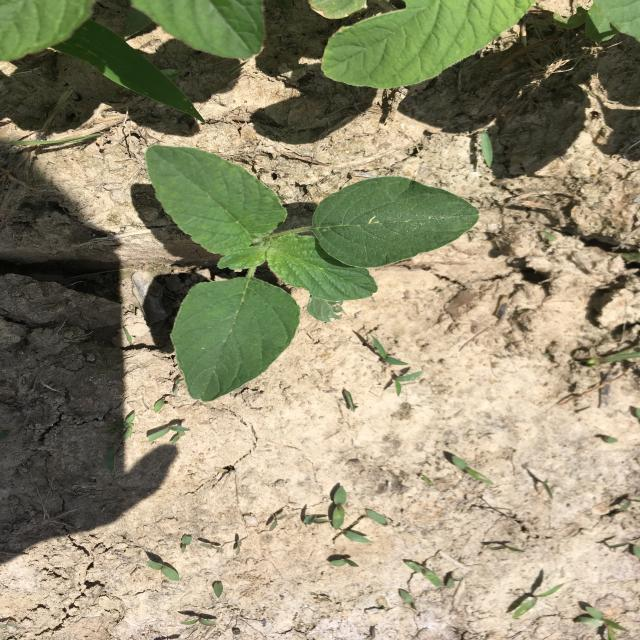PalmerAmaranth: (145, 145, 480, 402)
